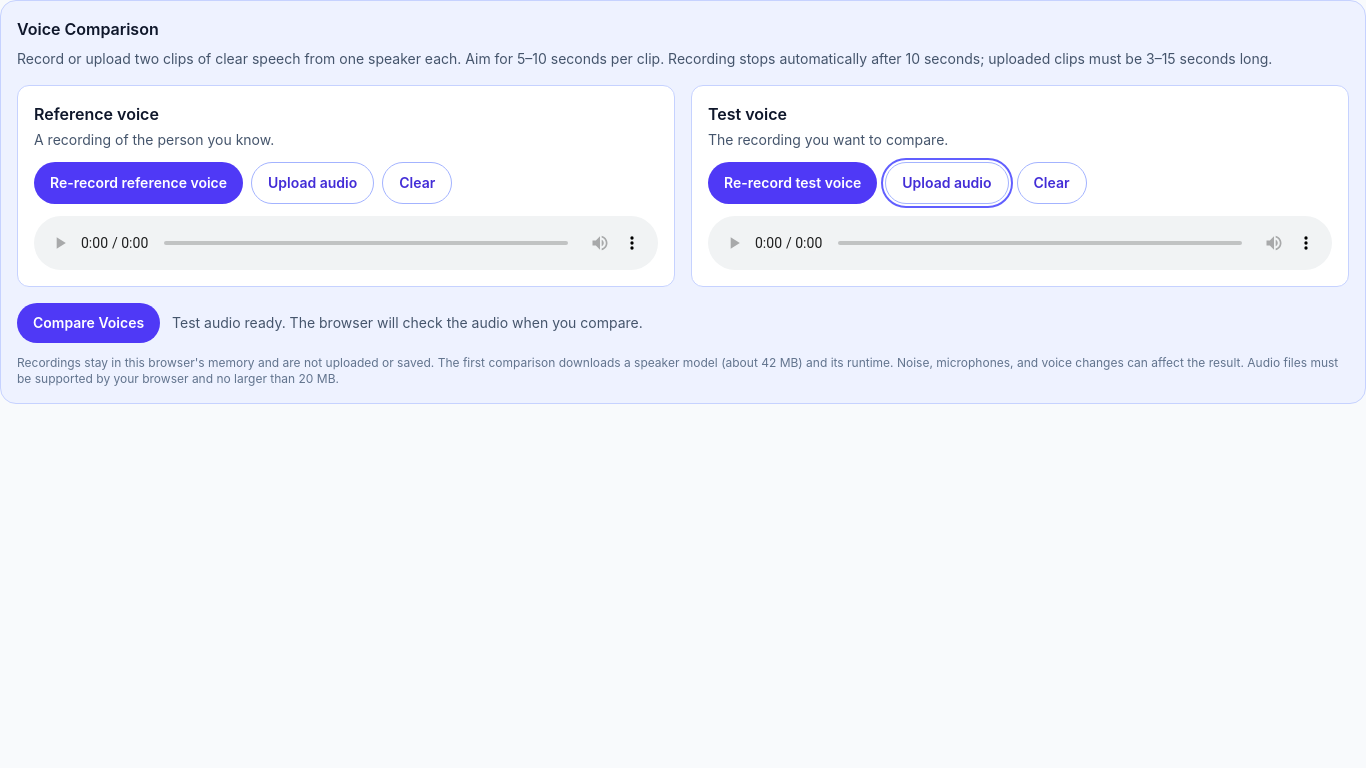
re-recording invalidates a prior comparison and revokes its old playback URL
This screenshot has width=1366, height=768.
Earlier steps of the test are not shown.
Click the button "Compare Voices".
click(89, 323)  # box [17, 303, 160, 343]
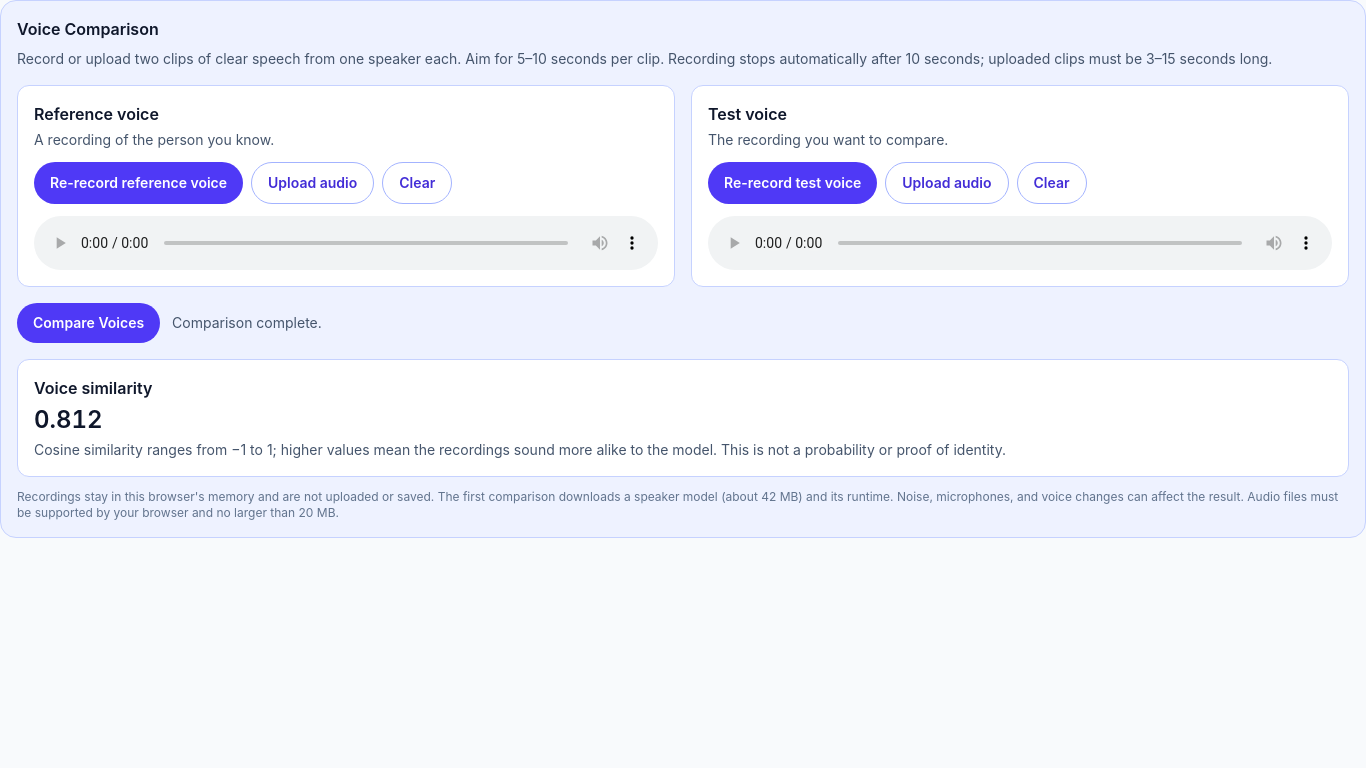
Expected: the text "0.812" is shown, [34, 405, 103, 434]
Click the button "Re-record reference voice".
click(138, 183)  # box [34, 162, 243, 204]
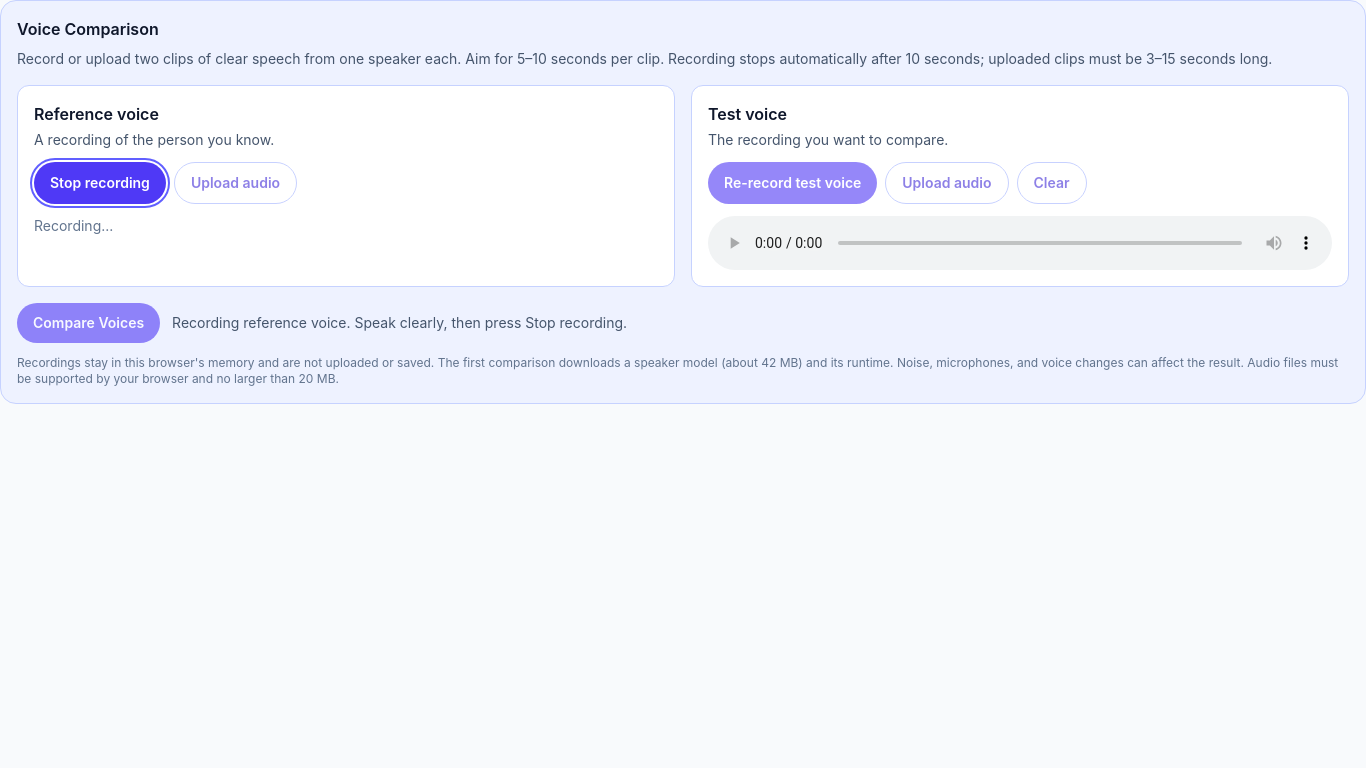
Expected: the text "0.812" is gone
Expected: the button "Compare Voices" is disabled, [17, 303, 160, 343]
